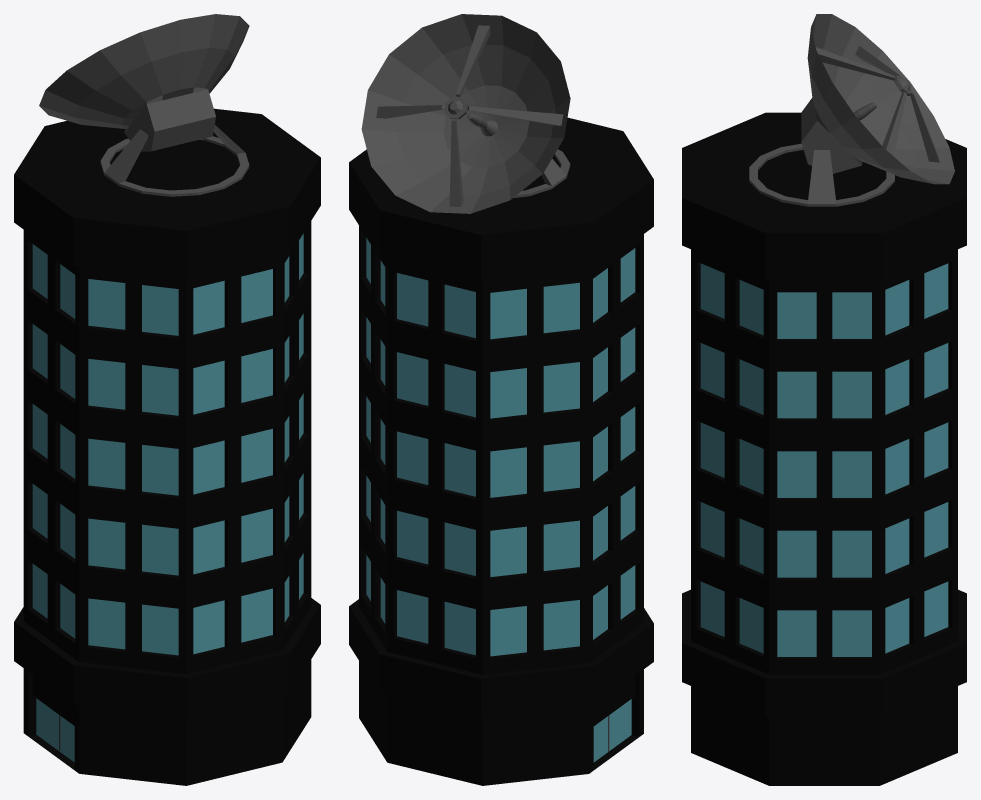
Rendered from signal_tower.glb.
The picture shows the model from 3 angles, left to right: view 1: azimuth 30°, elevation 25°; view 2: azimuth 150°, elevation 25°; view 3: azimuth 270°, elevation 25°; orthographic projection.
Parts seen in each view (by area): view 1: Building5.001; view 2: Building5.001; view 3: Building5.001.
Boxes of the visible parts, x1=… form: Building5.001: x1=14, y1=14, x2=320, y2=785; Building5.001: x1=349, y1=14, x2=653, y2=785; Building5.001: x1=682, y1=14, x2=966, y2=785.
Bounding box in the file's own units: 128 × 350 × 128.
